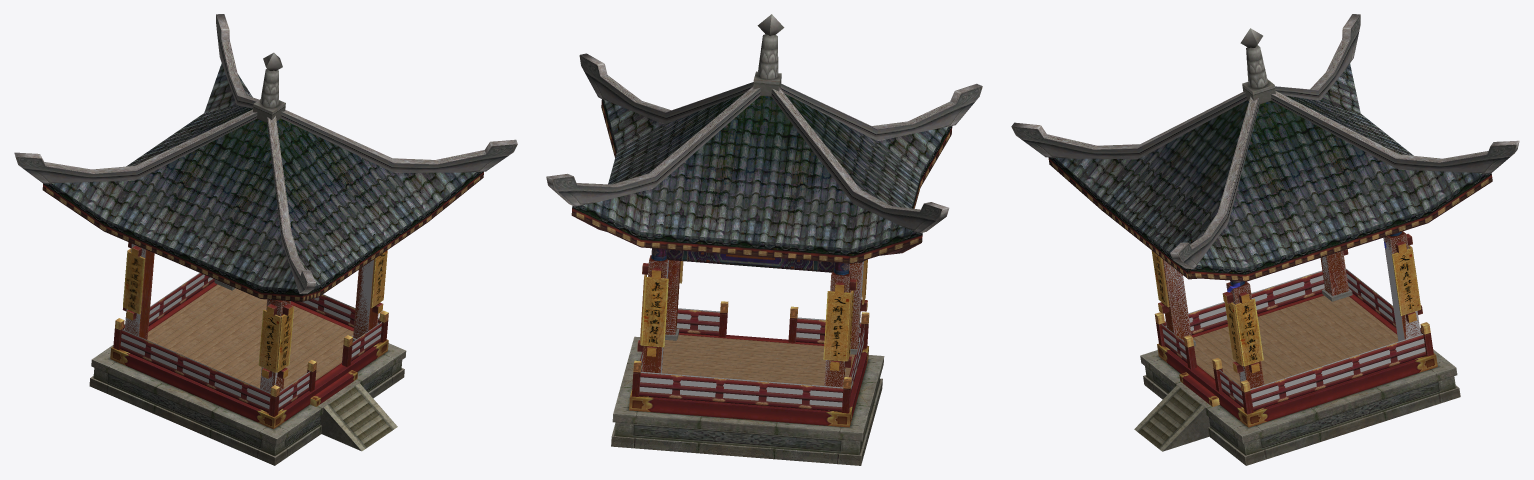
The model's file is LiangTin.fbx.
3 renders of one model, left to right at view 1: azimuth 30°, elevation 25°; view 2: azimuth 150°, elevation 25°; view 3: azimuth 270°, elevation 25°, orthographic. The views are drawn at different scales.
Visible parts, largest first — view 1: node_id11, node_id8 (×2), node_id10, node_id9, node_id5, node_id7 (×2), node_id6, node_id4; view 2: node_id11, node_id8 (×2), node_id9, node_id10, node_id7 (×2), node_id5; view 3: node_id11, node_id8 (×2), node_id9, node_id10, node_id7 (×2), node_id5, node_id6, node_id4.
Part boxes in pixels (<box>): node_id11: <box>42,63,483,301</box>; node_id8 (×2): <box>93,273,402,455</box>; node_id10: <box>89,250,406,465</box>; node_id9: <box>14,14,517,293</box>; node_id5: <box>147,284,353,388</box>; node_id7 (×2): <box>113,52,388,416</box>; node_id6: <box>324,383,397,450</box>; node_id4: <box>320,408,361,450</box>; node_id11: <box>571,93,952,263</box>; node_id8 (×2): <box>614,249,879,454</box>; node_id9: <box>546,53,982,262</box>; node_id10: <box>611,259,884,465</box>; node_id7 (×2): <box>631,14,869,413</box>; node_id5: <box>662,334,854,385</box>; node_id11: <box>1048,64,1492,281</box>; node_id8 (×2): <box>1145,239,1455,455</box>; node_id9: <box>1011,14,1519,279</box>; node_id10: <box>1140,248,1460,465</box>; node_id7 (×2): <box>1154,28,1433,414</box>; node_id5: <box>1193,295,1398,386</box>; node_id6: <box>1134,385,1204,451</box>; node_id4: <box>1163,408,1210,451</box>.
Size of the model in its own units: 0.6374 by 0.5339 by 0.6399.
64 materials, 15 textured.
